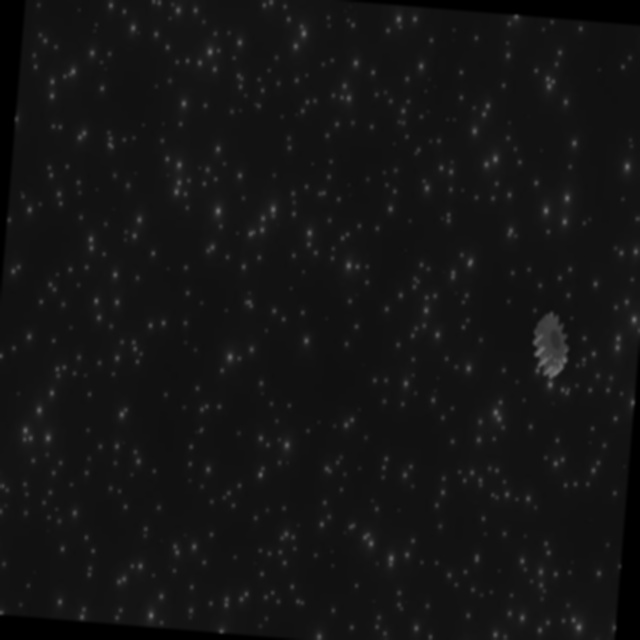large_debris: (530, 299, 574, 390)
